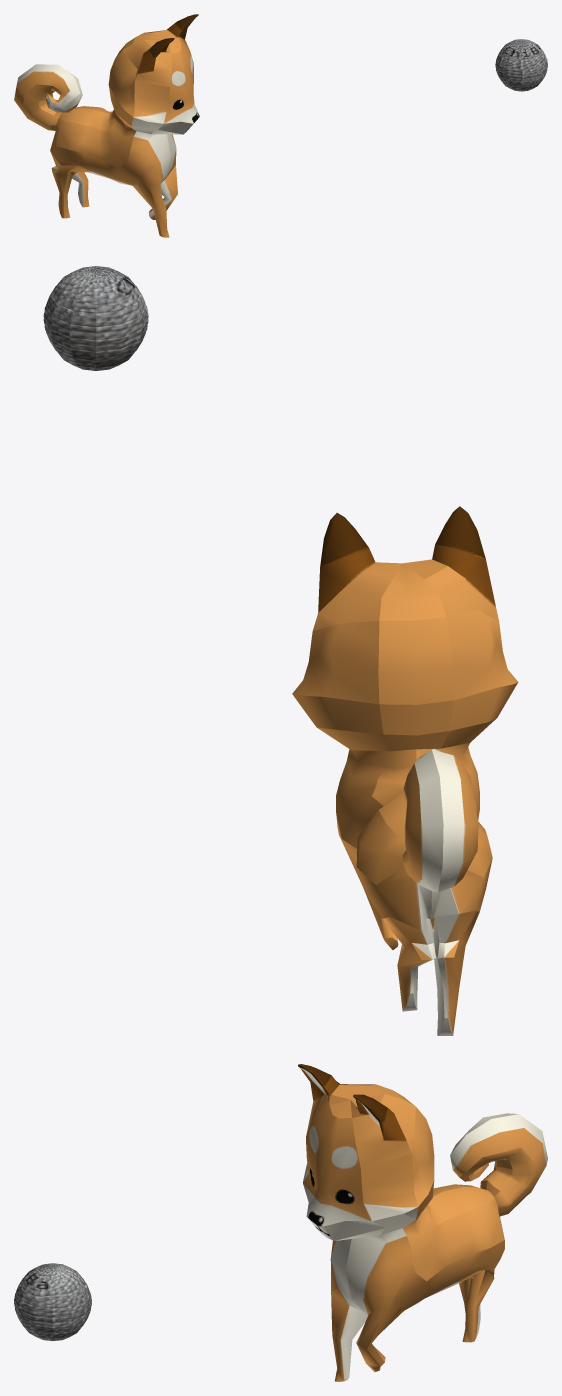
File: ball_frame25.obj
The picture shows the model from 3 angles, top to bottom: view 1: azimuth 30°, elevation 25°; view 2: azimuth 150°, elevation 25°; view 3: azimuth 270°, elevation 25°; orthographic projection. The views are drawn at different scales.
Parts seen in each view (by area): view 1: walk1:newRigging:BodzL1, pSphere1; view 2: walk1:newRigging:BodzL1, pSphere1; view 3: walk1:newRigging:BodzL1, pSphere1.
Part boxes in pixels (box(x1,y1,x2,y2)): walk1:newRigging:BodzL1: box(14, 14, 199, 237); pSphere1: box(495, 39, 547, 91); walk1:newRigging:BodzL1: box(292, 506, 518, 1035); pSphere1: box(43, 266, 148, 370); walk1:newRigging:BodzL1: box(298, 1064, 547, 1381); pSphere1: box(14, 1263, 91, 1340).
Size of the model in its own units: 14.63 by 7.95 by 12.35.
2 materials, 2 textured.
